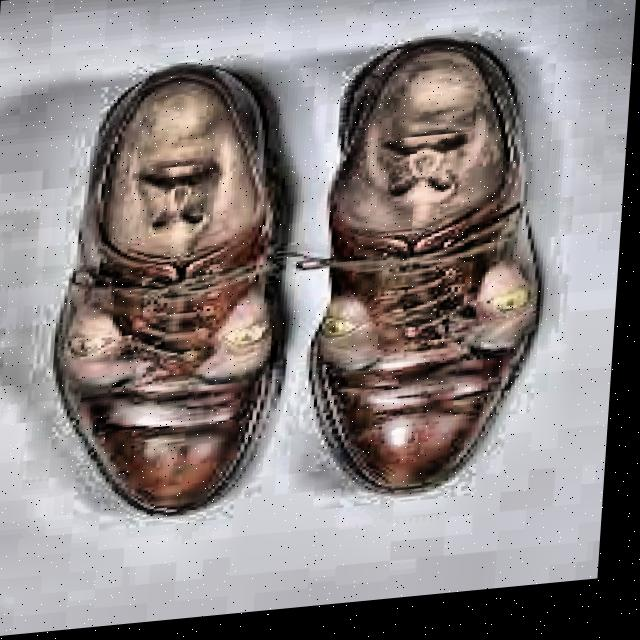shoes: (0, 6, 600, 565)
